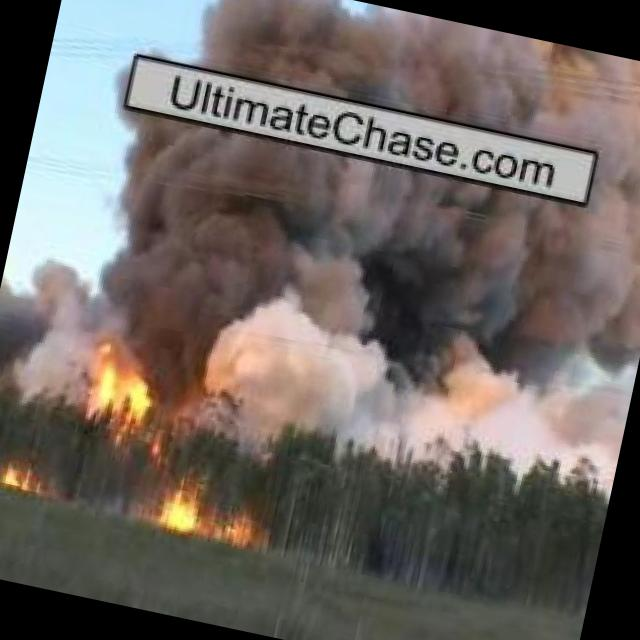Fire: (74, 334, 164, 438), (158, 484, 208, 530), (224, 504, 263, 550), (0, 464, 38, 491)
Smoke: (70, 112, 640, 463), (180, 0, 640, 172)
